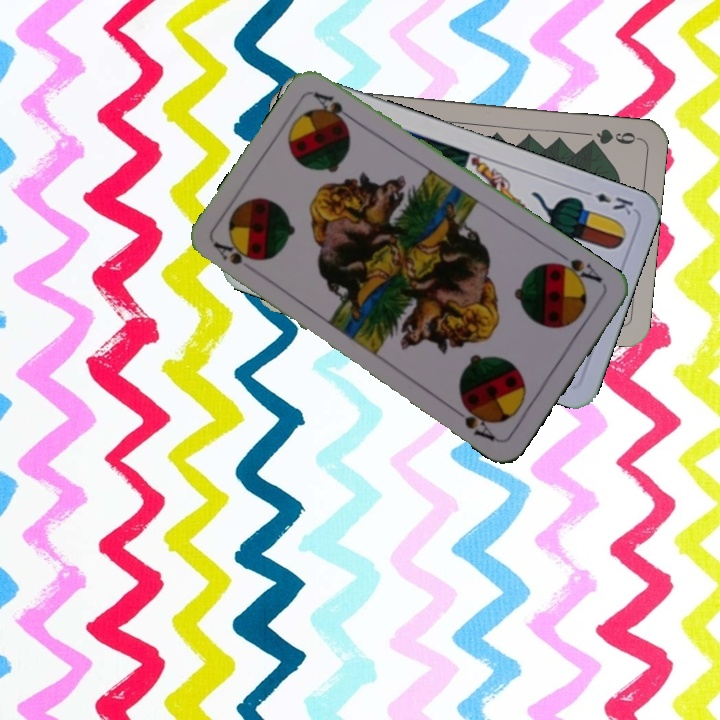EK: (578, 185, 636, 218)
G9: (582, 124, 642, 149)
SA: (548, 248, 605, 288), (209, 237, 256, 268)
